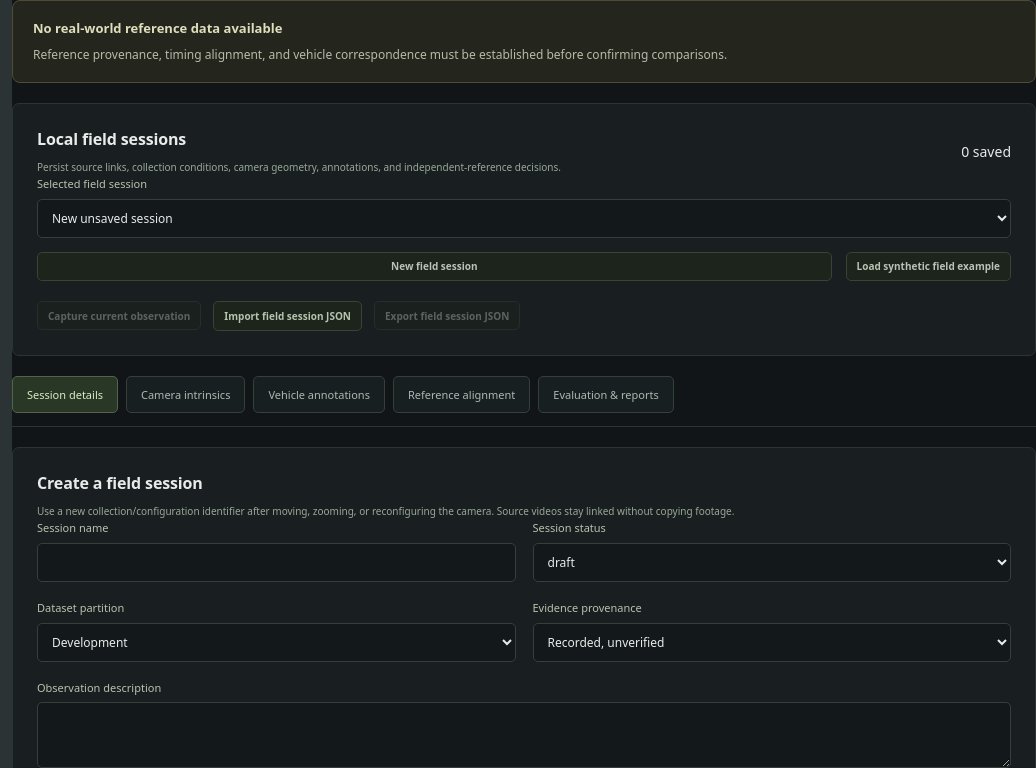
Test: field session workspace › loads synthetic examples as unsaved drafts and keeps their provenance explicit
The width and height of the screenshot is (1036, 768).
Expected: the button "New field session" is enabled, [37,252,832,281]
Click the button "Load synthetic field example" at point(928, 266), box [846,252,1011,281]
(page scrolled)
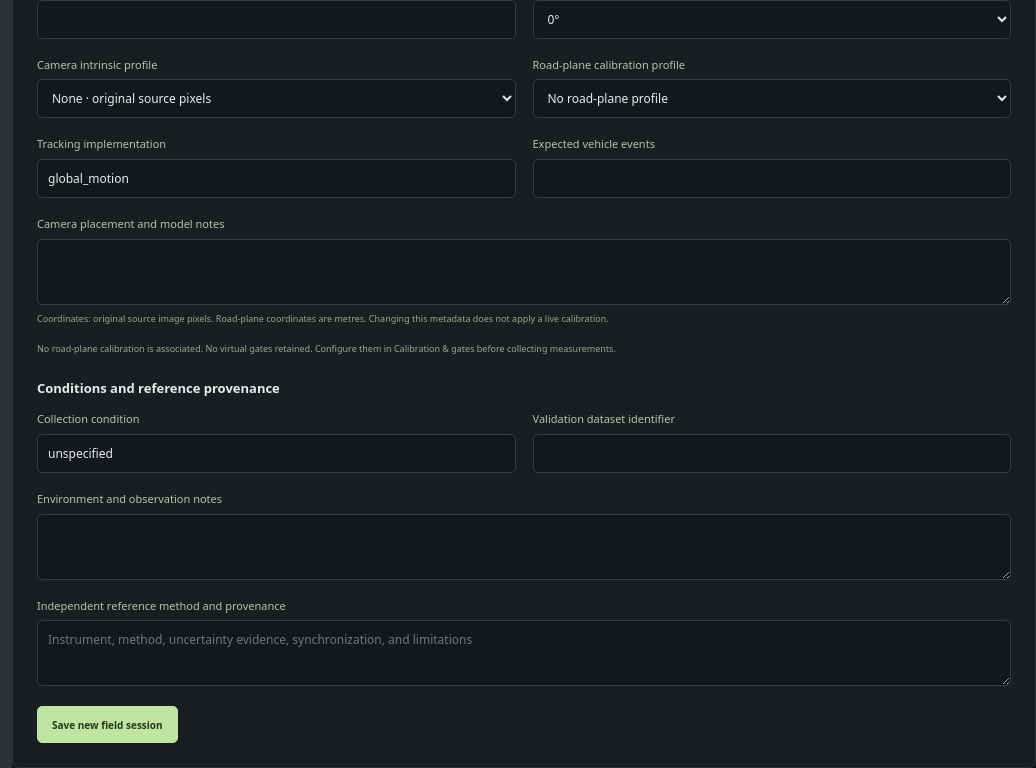
Click the button "Save new field session" at point(107, 725), box [37,706,178,743]
(page scrolled)
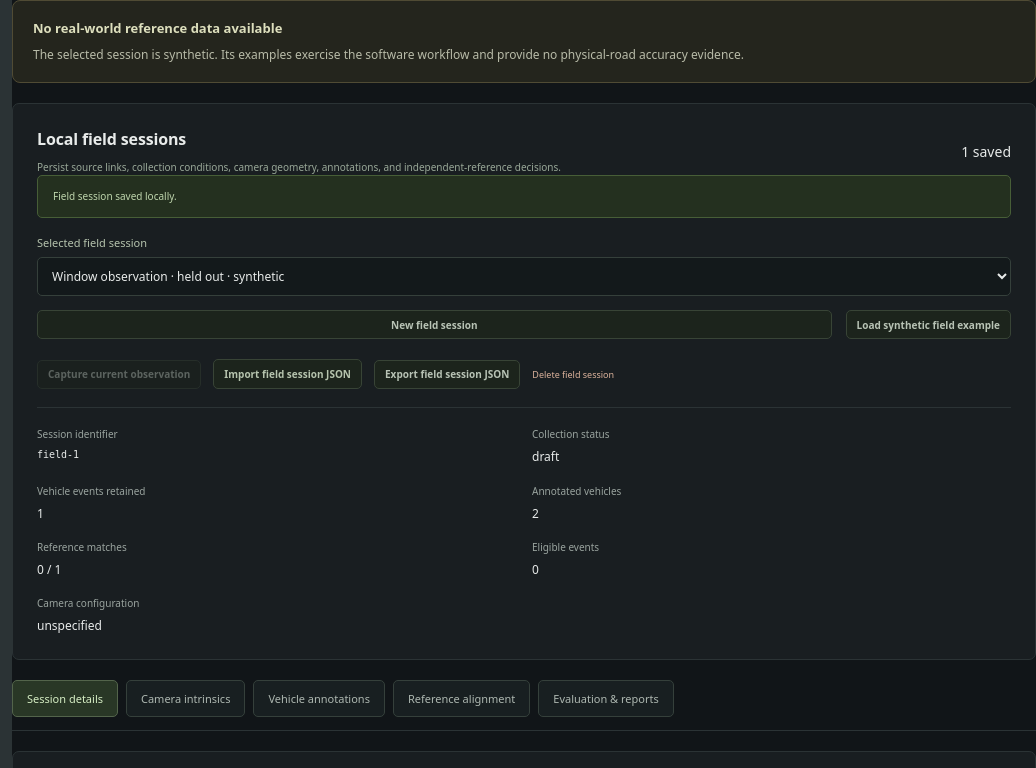
Result: the text "The selected session is synthetic" is shown at [33,46,744,63]
